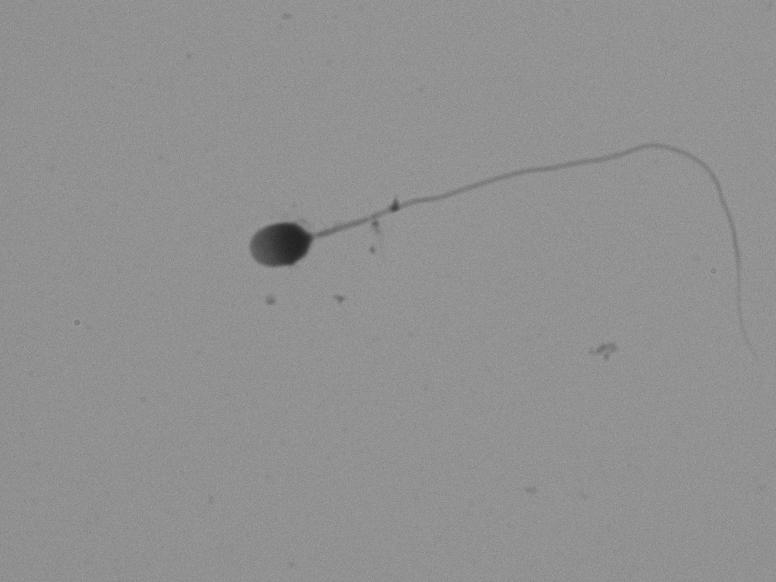Normal: (229, 103, 753, 429)
